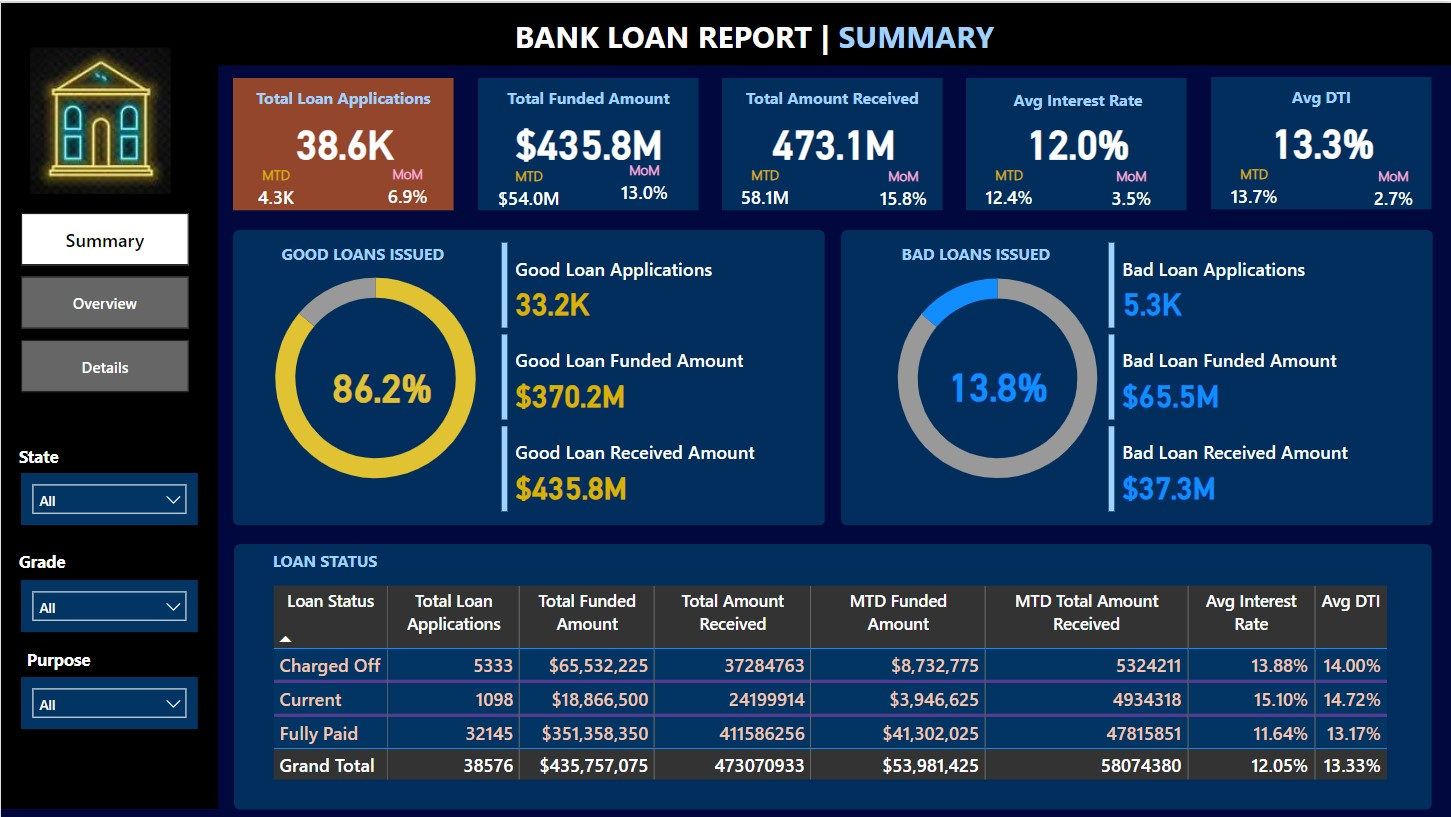

Layout of this report page (visuals, bound fields, positions):
{"tool":"powerbi","page":{"name":"Summary","canvas":[1280,720],"ordinal":0},"visuals":[{"type":"shape","box":[1068.1,65.1,194.5,116.7],"z":0,"group":"g5"},{"type":"shape","box":[205.5,65.8,194.5,116.7],"z":0,"group":"g1"},{"type":"shape","box":[421,66.4,194.5,116.7],"z":0,"group":"g2"},{"type":"shape","box":[636.5,66.4,194.5,116.7],"z":0,"group":"g3"},{"type":"shape","box":[852.1,66.4,194.5,116.7],"z":0,"group":"g4"},{"type":"shape","box":[205.5,477.4,1056.7,234.5],"z":0},{"type":"shape","box":[0,0,1280,55],"z":1000},{"type":"card","fields":{"Values":["financial_loan.Total Avg Dti"]},"box":[1084.1,99,163.6,45.9],"z":1000,"group":"g5"},{"type":"card","fields":{"Values":["financial_loan.Total Loan Application"]},"box":[221.5,99.7,163.6,45.9],"z":1000,"group":"g1"},{"type":"card","fields":{"Values":["financial_loan.Total Funded Amount"]},"box":[437,100.3,163.6,45.9],"z":1000,"group":"g2"},{"type":"card","fields":{"Values":["financial_loan.Total Amount Received"]},"box":[652.5,100.3,163.6,45.9],"z":1000,"group":"g3"},{"type":"card","fields":{"Values":["financial_loan.TotalAvg Int Rate"]},"box":[868.1,100.3,163.6,45.9],"z":1000,"group":"g4"},{"type":"textbox","box":[1075.1,68.1,180.6,30.9],"z":2000,"group":"g5"},{"type":"textbox","box":[212.5,68.8,180.6,30.9],"z":2000,"group":"g1"},{"type":"textbox","box":[428,69.4,180.6,30.9],"z":2000,"group":"g2"},{"type":"textbox","box":[643.5,69.4,180.6,30.9],"z":2000,"group":"g3"},{"type":"textbox","box":[856.9,70.8,187,33.8],"z":2000,"group":"g4"},{"type":"shape","box":[205.1,200.3,522.4,260.6],"z":2000},{"type":"shape","box":[0,46.3,191.6,665.3],"z":3000},{"type":"card","title":"MTD","fields":{"Values":["financial_loan.MTD Avg DTI"]},"box":[1067.7,141.6,76,41],"z":3000,"group":"g5"},{"type":"card","title":"MTD","fields":{"Values":["financial_loan.MTD Loan Applications"]},"box":[205.1,142.3,76,41],"z":3000,"group":"g1"},{"type":"card","title":"MTD","fields":{"Values":["financial_loan.MTD Total Amount Received"]},"box":[636.1,142.9,76,41],"z":3000,"group":"g3"},{"type":"card","title":"MTD","fields":{"Values":["financial_loan.MTD Avg Int Rate"]},"box":[851.7,142.9,76,41],"z":3000,"group":"g4"},{"type":"card","title":"MTD","fields":{"Values":["financial_loan.MTD Funded Amount"]},"box":[428.4,143.6,75.7,41.1],"z":3000,"group":"g2"},{"type":"card","title":"MoM","fields":{"Values":["financial_loan.MoM Funded Amount"]},"box":[529.3,138.9,76.6,41.1],"z":4000,"group":"g2"},{"type":"card","title":"MoM","fields":{"Values":["financial_loan.MoM Loan Applications"]},"box":[321.3,141.3,75.4,40.9],"z":4000,"group":"g1"},{"type":"card","title":"MoM","fields":{"Values":["financial_loan.MoM Avg DTI"]},"box":[1190.4,143.4,76.6,41.1],"z":4000,"group":"g5"},{"type":"card","title":"MoM","fields":{"Values":["financial_loan.MoM Total Amount Received"]},"box":[757.4,143.6,76.6,41.1],"z":4000,"group":"g3"},{"type":"card","title":"MoM","fields":{"Values":["financial_loan.MoM Avg Int Rate"]},"box":[959.4,143.6,76.6,41.1],"z":4000,"group":"g4"},{"type":"textbox","box":[228.8,206.8,181.2,30.2],"z":4000},{"type":"card","fields":{"Values":["financial_loan.Good Loan%"]},"box":[273.9,313.7,125.5,45.8],"z":5000},{"type":"textbox","box":[448,5,484.9,45.9],"z":6000},{"type":"group","id":"g1","title":"Group 1","box":[205.1,65.8,195,117.5],"z":7000},{"type":"group","id":"g2","title":"Group 1","box":[421,66.4,194.5,118.3],"z":8000},{"type":"group","id":"g3","title":"Group 1","box":[636.1,66.4,197.9,118.3],"z":9000},{"type":"group","id":"g4","title":"Group 1","box":[851.7,66.4,195,118.3],"z":10000},{"type":"group","id":"g5","title":"Group 1","box":[1067.7,65.1,199.3,119.5],"z":11000},{"type":"shape","box":[740.7,200.3,522.4,260.6],"z":12000},{"type":"donutChart","fields":{"Category":["financial_loan.Good v Bad Loan"],"Y":["financial_loan.Total Loan Applications"]},"box":[205.6,214.9,249.7,231.1],"z":13000},{"type":"cardVisual","fields":{"Data":["financial_loan.Good Loan Applications","financial_loan.Good Loan Funded Amount","financial_loan.Good Loan Received Amount"]},"box":[436.7,206.8,283.4,248.6],"z":14000},{"type":"donutChart","fields":{"Category":["financial_loan.Good v Bad Loan"],"Y":["financial_loan.Total Loan Applications"]},"box":[753.8,216,249.7,230],"z":15000},{"type":"cardVisual","fields":{"Data":["financial_loan.Bad Loan Applications","financial_loan.Bad Loan Funded Amount","financial_loan.Bad Loan Received Amount"]},"box":[972.2,206.8,283.4,248.6],"z":16000},{"type":"card","fields":{"Values":["financial_loan.Bad Loan%"]},"box":[816.6,313.6,125.4,45.3],"z":17000},{"type":"textbox","box":[768.9,206.8,181.2,30.2],"z":18000},{"type":"tableEx","fields":{"Values":["financial_loan.loan_status","financial_loan.Total Loan Applications","financial_loan.Total Funded Amount","financial_loan.Total Amount Received","financial_loan.MTD Funded Amount","financial_loan.MTD Total Amount Received","financial_loan.Total Avg Int Rate","financial_loan.Total Avg DTI"]},"box":[234.7,509.2,1001.2,190.5],"z":19000},{"type":"textbox","box":[234.7,476.9,180.9,32.3],"z":20000},{"type":"slicer","fields":{"Values":["financial_loan.address_state"]},"box":[17.2,414.5,156.1,46.3],"z":21000},{"type":"textbox","box":[10.8,384.3,62.4,30.1],"z":22000},{"type":"slicer","fields":{"Values":["financial_loan.grade"]},"box":[17.2,509.2,156.1,46.3],"z":23000},{"type":"textbox","box":[10.8,476.9,62.4,30.1],"z":24000},{"type":"textbox","box":[17.2,564.1,78.6,30.1],"z":25000},{"type":"slicer","fields":{"Values":["financial_loan.purpose"]},"box":[17.2,594.2,156.1,46.3],"z":26000},{"type":"pageNavigator","box":[17.2,185.2,148.6,159.3],"z":26001},{"type":"image","box":[9.7,34.4,156.1,138.9],"z":26002}]}

Visuals, with their boxes in screenshot pixels (x1, y1, x2, y2), scaled from the page's 1280x720 canvas onto the 1451x817 screenshot:
shape: <region>1211, 74, 1431, 206</region>
shape: <region>233, 75, 453, 207</region>
shape: <region>477, 75, 698, 208</region>
shape: <region>722, 75, 942, 208</region>
shape: <region>966, 75, 1186, 208</region>
shape: <region>233, 542, 1431, 808</region>
shape: <region>0, 0, 1450, 62</region>
card - financial_loan.Total Avg Dti: <region>1229, 112, 1414, 164</region>
card - financial_loan.Total Loan Application: <region>251, 113, 437, 165</region>
card - financial_loan.Total Funded Amount: <region>495, 114, 681, 166</region>
card - financial_loan.Total Amount Received: <region>740, 114, 925, 166</region>
card - financial_loan.TotalAvg Int Rate: <region>984, 114, 1170, 166</region>
textbox: <region>1219, 77, 1423, 112</region>
textbox: <region>241, 78, 446, 113</region>
textbox: <region>485, 79, 690, 114</region>
textbox: <region>729, 79, 934, 114</region>
textbox: <region>971, 80, 1183, 119</region>
shape: <region>233, 227, 825, 523</region>
shape: <region>0, 53, 217, 807</region>
"MTD" card: <region>1210, 161, 1296, 207</region>
"MTD" card: <region>233, 161, 319, 208</region>
"MTD" card: <region>721, 162, 807, 209</region>
"MTD" card: <region>965, 162, 1052, 209</region>
"MTD" card: <region>486, 163, 571, 210</region>
"MoM" card: <region>600, 158, 687, 204</region>
"MoM" card: <region>364, 160, 450, 207</region>
"MoM" card: <region>1349, 163, 1436, 209</region>
"MoM" card: <region>859, 163, 945, 210</region>
"MoM" card: <region>1088, 163, 1174, 210</region>
textbox: <region>259, 235, 465, 269</region>
card - financial_loan.Good Loan%: <region>310, 356, 453, 408</region>
textbox: <region>508, 6, 1058, 58</region>
"Group 1" group: <region>233, 75, 454, 208</region>
"Group 1" group: <region>477, 75, 698, 210</region>
"Group 1" group: <region>721, 75, 945, 210</region>
"Group 1" group: <region>965, 75, 1187, 210</region>
"Group 1" group: <region>1210, 74, 1436, 209</region>
shape: <region>840, 227, 1432, 523</region>
donutChart - financial_loan.Good v Bad Loan x financial_loan.Total Loan Applications: <region>233, 244, 516, 506</region>
cardVisual - financial_loan.Good Loan Applications x financial_loan.Good Loan Funded Amount: <region>495, 235, 816, 517</region>
donutChart - financial_loan.Good v Bad Loan x financial_loan.Total Loan Applications: <region>855, 245, 1138, 506</region>
cardVisual - financial_loan.Bad Loan Applications x financial_loan.Bad Loan Funded Amount: <region>1102, 235, 1423, 517</region>
card - financial_loan.Bad Loan%: <region>926, 356, 1068, 407</region>
textbox: <region>872, 235, 1077, 269</region>
tableEx - financial_loan.loan_status x financial_loan.Total Loan Applications: <region>266, 578, 1401, 794</region>
textbox: <region>266, 541, 471, 578</region>
slicer - financial_loan.address_state: <region>19, 470, 196, 523</region>
textbox: <region>12, 436, 83, 470</region>
slicer - financial_loan.grade: <region>19, 578, 196, 630</region>
textbox: <region>12, 541, 83, 575</region>
textbox: <region>19, 640, 109, 674</region>
slicer - financial_loan.purpose: <region>19, 674, 196, 727</region>
pageNavigator: <region>19, 210, 188, 391</region>
image: <region>11, 39, 188, 197</region>
